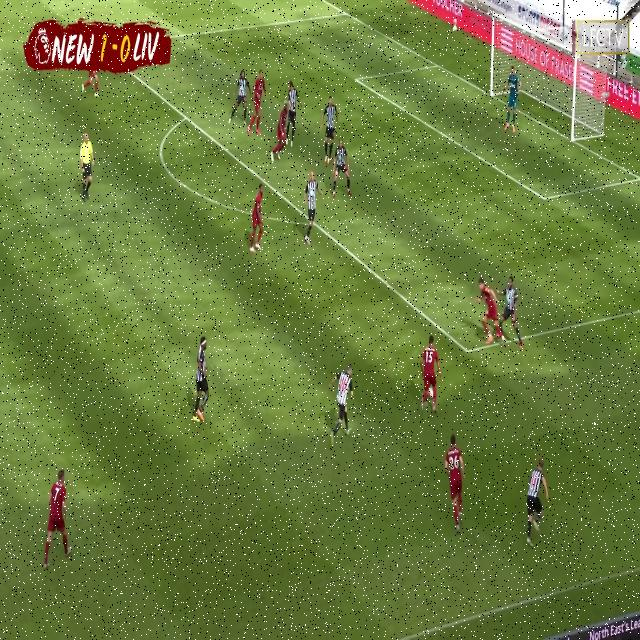Ball: (429, 384, 433, 398)
GoalKeeper: (504, 65, 524, 131)
TEAM 1: (40, 470, 70, 568), (476, 279, 508, 349), (444, 434, 466, 535), (418, 334, 443, 416), (270, 98, 288, 164), (250, 187, 266, 256), (252, 70, 268, 132), (81, 68, 101, 96)
TEAM 2: (526, 456, 550, 544), (498, 274, 523, 350), (333, 368, 354, 438), (195, 333, 208, 433), (303, 170, 320, 244), (331, 141, 352, 198), (229, 71, 249, 124), (323, 98, 338, 164), (286, 75, 300, 142)
